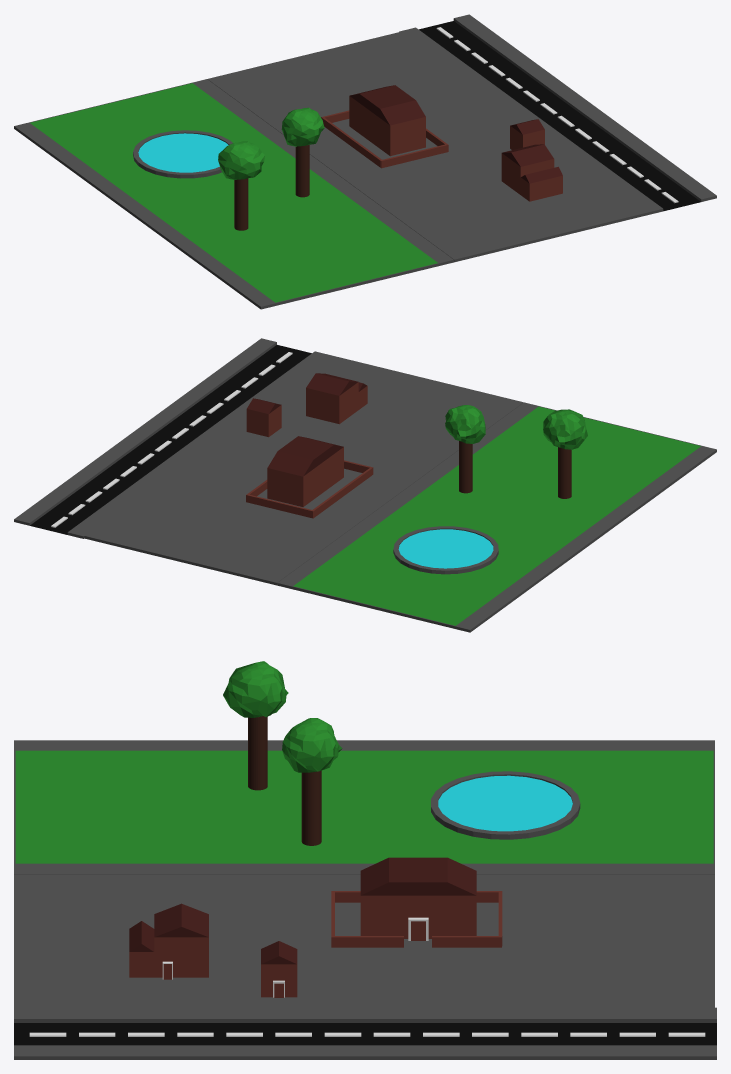
File: SceneryAssets.fbx
The picture shows the model from 3 angles, top to bottom: view 1: azimuth 30°, elevation 25°; view 2: azimuth 150°, elevation 25°; view 3: azimuth 270°, elevation 25°; orthographic projection. The views are drawn at different scales.
Visible parts, largest first — view 1: ParkArea, Plane, Road, House1, Fountain, House2, Tree.002, Tree.001, BasicHouse, BrickWall, BrickWall.001; view 2: ParkArea, Plane, Road, Fountain, House1, House2, Tree.002, Tree.001, BasicHouse, BrickWall.002, BrickWall.001; view 3: ParkArea, Plane, Road, House1, Fountain, House2, Tree.002, Tree.001, BasicHouse, BrickWall.003, BrickWall.004.
Boxes of the visible parts, x1,y1,x2,y2 form: ParkArea: (14, 79, 453, 309); Plane: (207, 32, 646, 262); Road: (399, 14, 716, 215); House1: (349, 85, 425, 156); Fountain: (133, 130, 232, 178); House2: (501, 144, 562, 201); Tree.002: (218, 141, 264, 230); Tree.001: (281, 107, 324, 197); BasicHouse: (510, 119, 544, 150); BrickWall: (380, 144, 446, 168); BrickWall.001: (321, 117, 381, 166); ParkArea: (277, 402, 716, 632); Plane: (84, 355, 523, 585); Road: (14, 338, 330, 538); Fountain: (393, 526, 498, 574); House1: (267, 436, 343, 506); House2: (306, 373, 367, 424); Tree.002: (543, 409, 587, 498); Tree.001: (445, 405, 485, 493); BasicHouse: (246, 398, 281, 437); BrickWall.002: (248, 494, 313, 518); BrickWall.001: (313, 468, 371, 518); ParkArea: (14, 740, 714, 874); Plane: (14, 874, 714, 1007); Road: (14, 1007, 716, 1059); House1: (360, 857, 476, 940); Fountain: (431, 771, 580, 839); House2: (129, 903, 208, 979); Tree.002: (223, 661, 288, 790); Tree.001: (282, 718, 342, 845); BasicHouse: (261, 941, 297, 997); BrickWall.003: (331, 936, 403, 947); BrickWall.004: (432, 936, 501, 947).
Size of the model in its own units: 7603 by 1385 by 7151.
